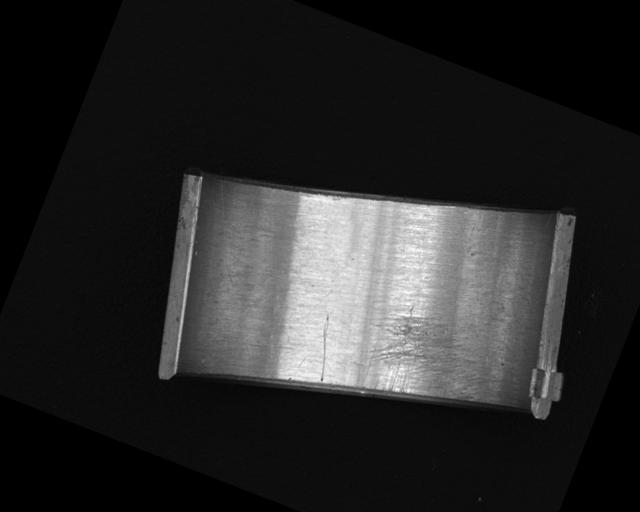nick: (189, 179, 265, 283), (302, 314, 346, 382)
scratch: (355, 296, 498, 428)
